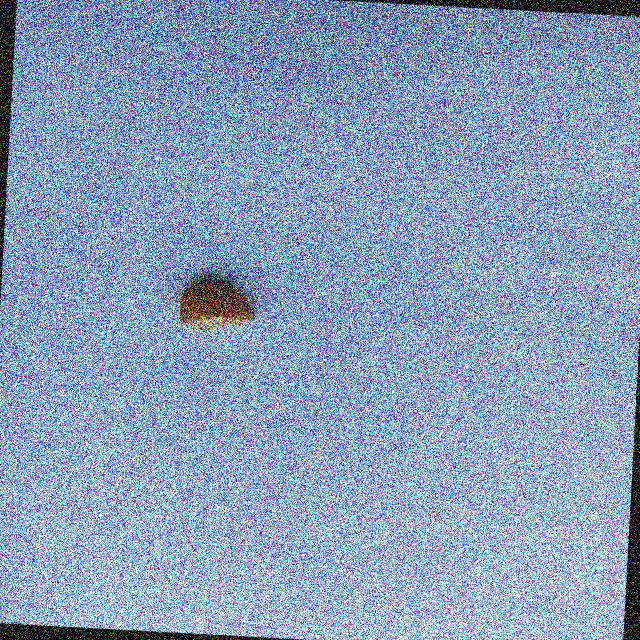grade4: (171, 270, 265, 338)
